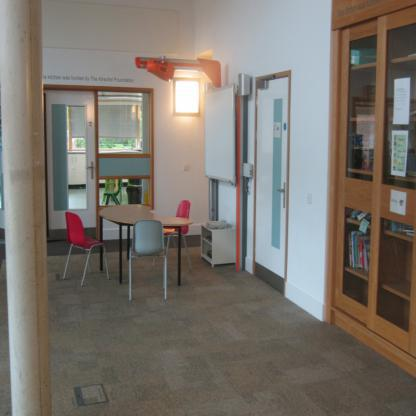door: (43, 92, 98, 242), (254, 76, 291, 296)
hinged: (255, 130, 258, 142), (256, 94, 258, 108)
lever: (276, 187, 286, 194), (84, 165, 94, 170)
